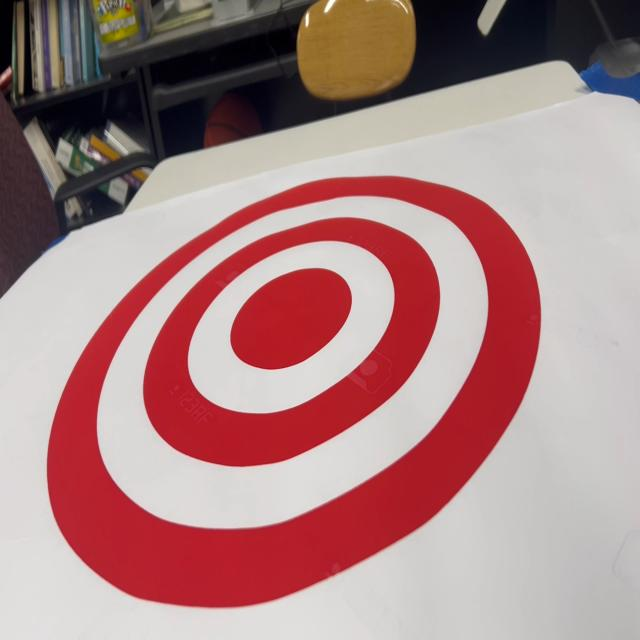target_red: (48, 162, 550, 640)
